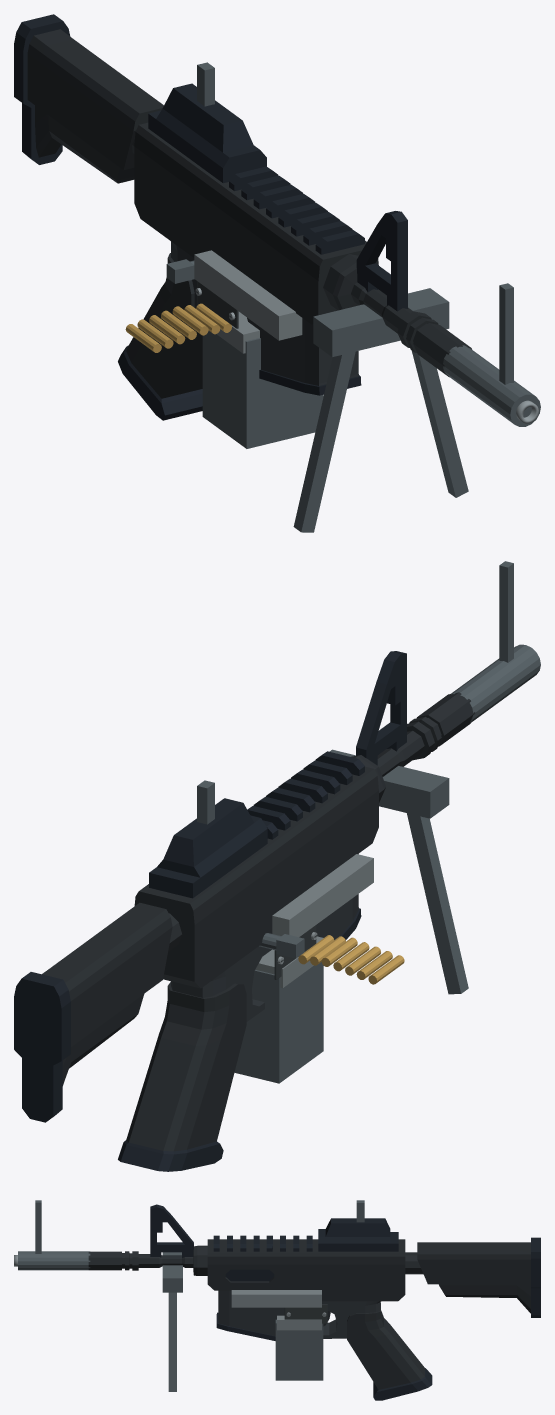
Rendered from weapon_08.glb.
3 renders of one model, top to bottom at view 1: azimuth 30°, elevation 25°; view 2: azimuth 150°, elevation 25°; view 3: azimuth 270°, elevation 25°, orthographic. The views are drawn at different scales.
Visible parts, largest first — view 1: receiver_geometry, CC0_weapon_08_geometry, magazine_geometry, hinged_feed_cover, ammo_belt_geometry, Recessed receiver plate.001; view 2: receiver_geometry, CC0_weapon_08_geometry, magazine_geometry, hinged_feed_cover, ammo_belt_geometry, charging_handle_geometry; view 3: receiver_geometry, CC0_weapon_08_geometry, magazine_geometry, hinged_feed_cover, Recessed receiver plate.
Part boxes in pixels (left/top/right/bottom): receiver_geometry: left=14, top=14, right=471, bottom=420; CC0_weapon_08_geometry: left=197, top=62, right=540, bottom=532; magazine_geometry: left=202, top=311, right=323, bottom=448; hinged_feed_cover: left=194, top=250, right=302, bottom=340; ammo_belt_geometry: left=125, top=303, right=231, bottom=352; Recessed receiver plate.001: left=197, top=281, right=238, bottom=328; receiver_geometry: left=14, top=651, right=475, bottom=1171; CC0_weapon_08_geometry: left=197, top=561, right=540, bottom=994; magazine_geometry: left=234, top=936, right=323, bottom=1083; hinged_feed_cover: left=272, top=854, right=373, bottom=937; ammo_belt_geometry: left=298, top=935, right=404, bottom=984; charging_handle_geometry: left=259, top=933, right=304, bottom=958; receiver_geometry: left=88, top=1204, right=540, bottom=1400; CC0_weapon_08_geometry: left=18, top=1200, right=364, bottom=1391; magazine_geometry: left=275, top=1315, right=323, bottom=1380; hinged_feed_cover: left=231, top=1290, right=321, bottom=1307; Recessed receiver plate: left=284, top=1304, right=327, bottom=1323.
Size of the model in its own units: 0.2866 by 0.4669 by 1.16.
